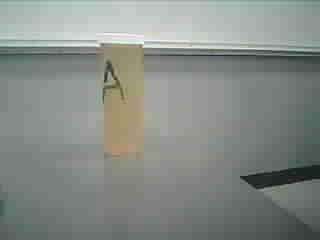Bottle A: (90, 26, 164, 165)
